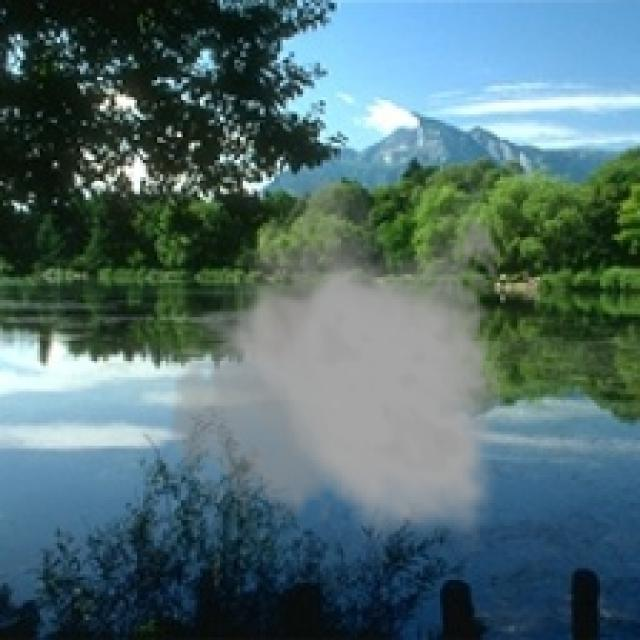Smoke: (166, 174, 512, 552)
